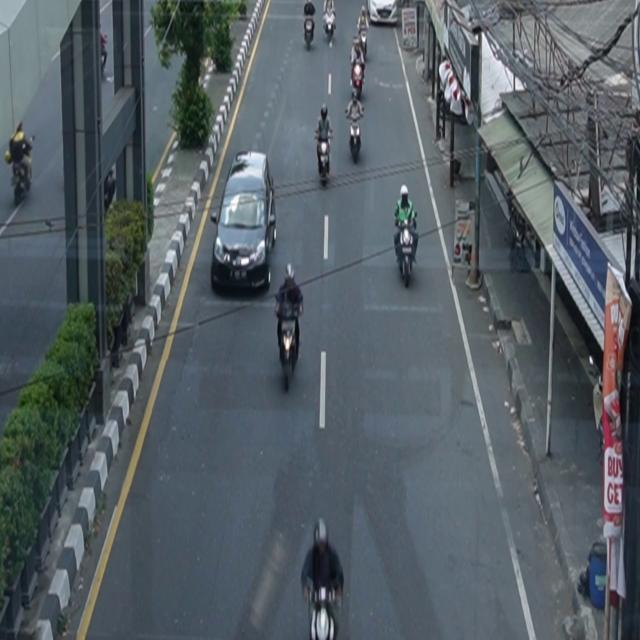car: (211, 150, 277, 294)
